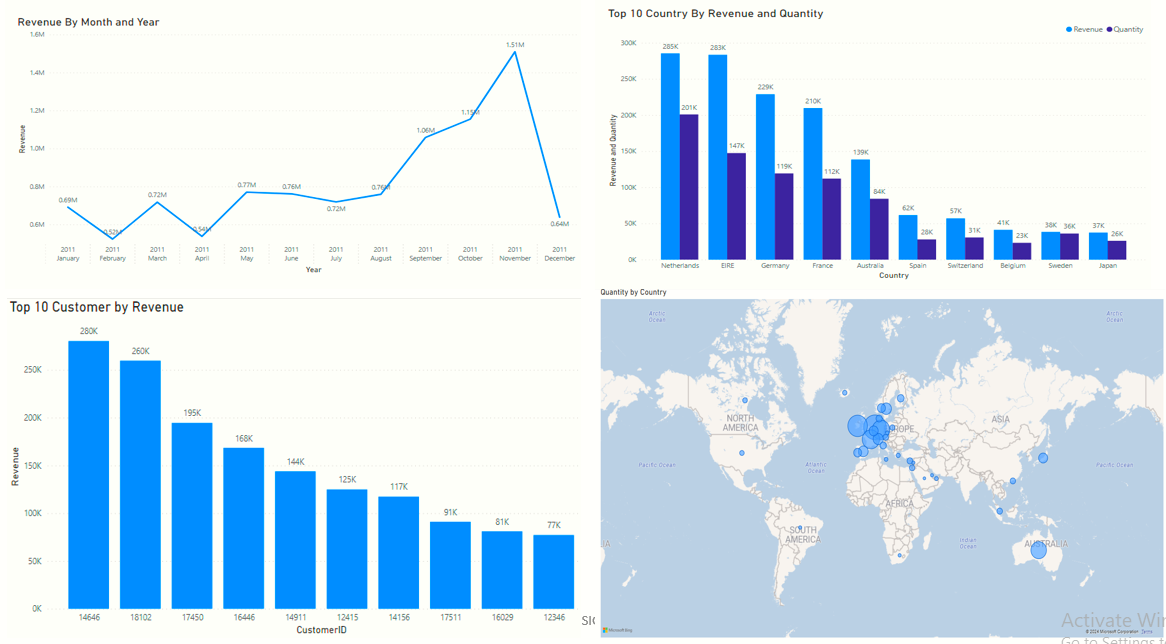

The dashboard page shown, as its layout file describes it:
{"tool":"powerbi","page":{"name":"Dashboard","canvas":[1280,720],"ordinal":4},"visuals":[{"type":"lineChart","title":"Revenue By Month and Year","fields":{"Category":["Online Retail.InvoiceDate.Variation.Date Hierarchy.Month","Online Retail.InvoiceDate.Variation.Date Hierarchy.Year"],"Y":["Online Retail.Revenue"]},"box":[454.6,53.5,756.5,306.5],"z":0},{"type":"clusteredBarChart","title":"Top 10 Customer by Revenue","fields":{"Category":["Online Retail.CustomerID"],"Y":["Online Retail.Revenue"]},"box":[0,149.1,438.2,555.2],"z":1000},{"type":"clusteredColumnChart","title":"Top 10 Country By Revenue and Quantity","fields":{"Category":["Online Retail.Country"],"Y":["Online Retail.Revenue","Sum(Online Retail.Quantity)"]},"box":[454.6,373.7,825.9,330.4],"z":2000}]}

Visuals, with their boxes in screenshot pixels (x1, y1, x2, y2), scaled from the page's 1280x720 canvas onto the 1166x644 screenshot:
"Revenue By Month and Year" lineChart: bbox=[414, 48, 1103, 322]
"Top 10 Customer by Revenue" clusteredBarChart: bbox=[0, 133, 399, 630]
"Top 10 Country By Revenue and Quantity" clusteredColumnChart: bbox=[414, 334, 1165, 630]
